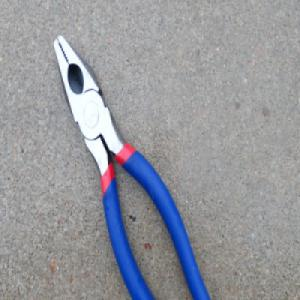Pliers: (51, 32, 214, 300)
